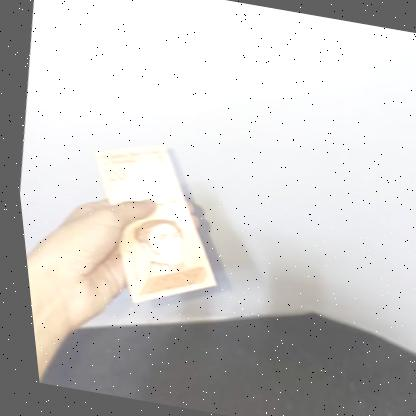twenty-front-vef: (64, 132, 236, 316)
